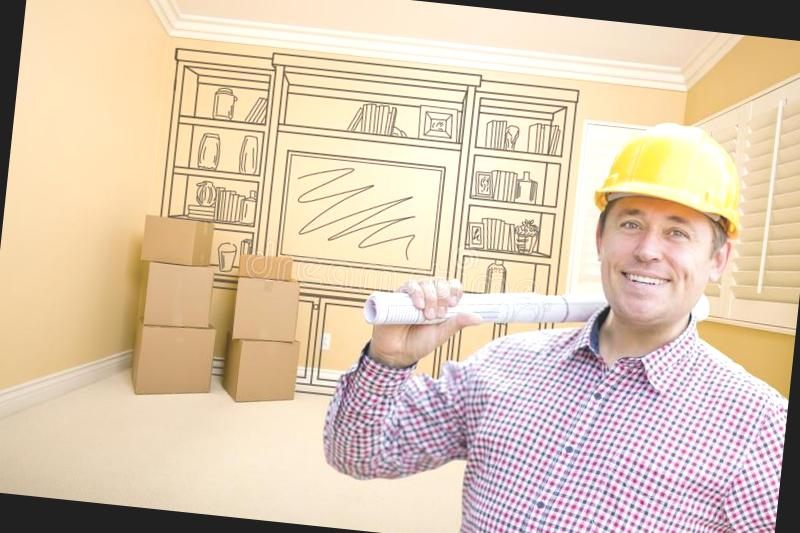helmet: (570, 108, 757, 249)
no_vest: (427, 303, 790, 533)
person: (318, 81, 800, 533)
